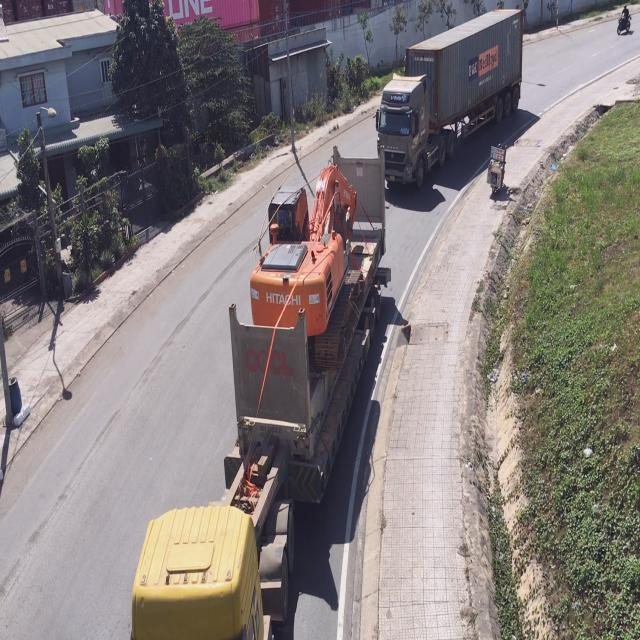motorbike: (485, 140, 507, 195), (617, 5, 633, 38)
truck: (127, 149, 383, 640), (378, 15, 524, 201)
